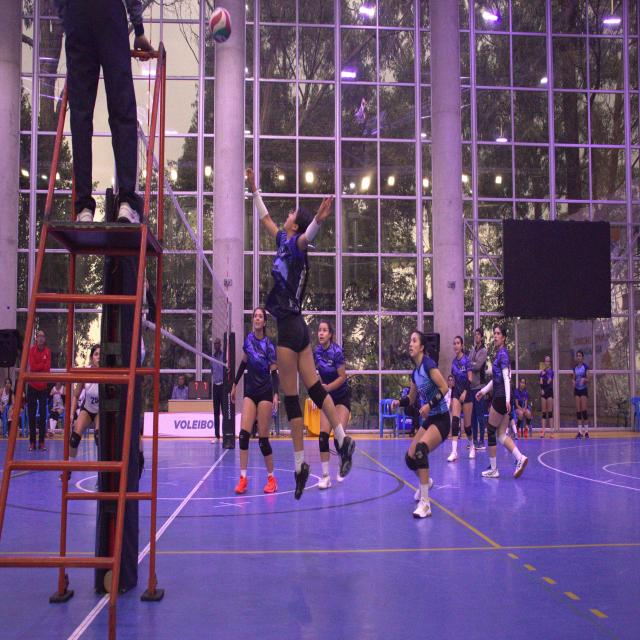volleyball: (208, 6, 232, 43)
